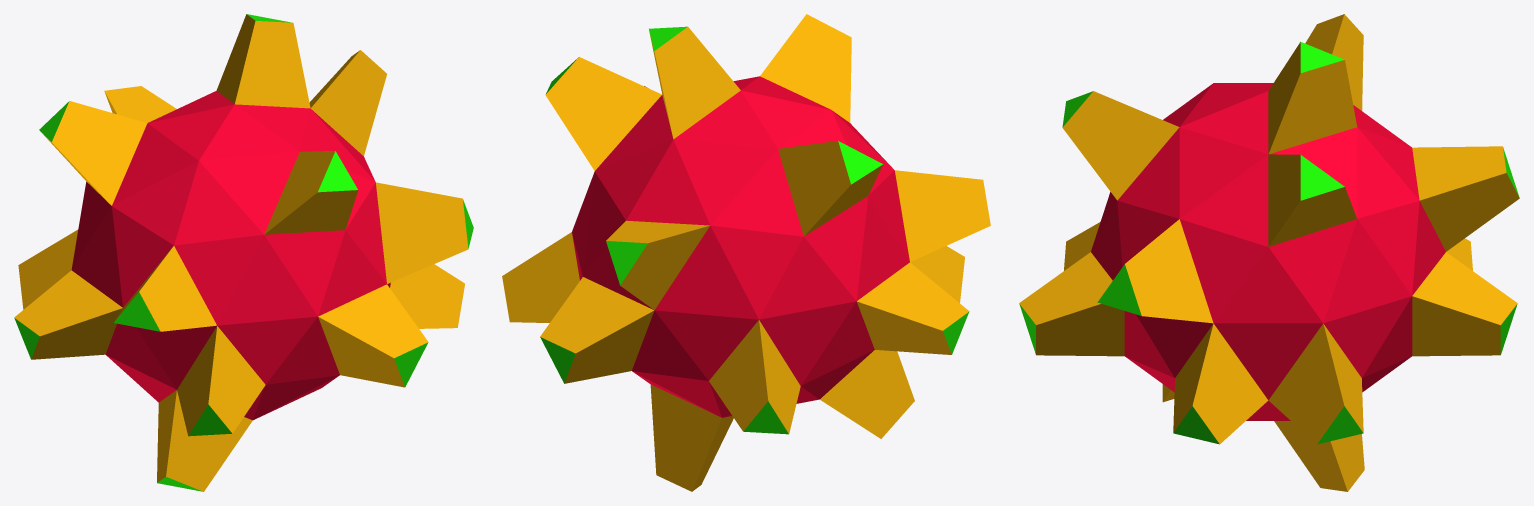
Rendered from mine.fbx.
The picture shows the model from 3 angles, left to right: view 1: azimuth 30°, elevation 25°; view 2: azimuth 150°, elevation 25°; view 3: azimuth 270°, elevation 25°; orthographic projection. The views are drawn at different scales.
Parts seen in each view (by area): view 1: Icosphere; view 2: Icosphere; view 3: Icosphere.
Boxes of the visible parts, left/top/right/bottom form: Icosphere: left=14, top=14, right=473, bottom=491; Icosphere: left=502, top=14, right=990, bottom=491; Icosphere: left=1019, top=14, right=1519, bottom=491.
Bounding box in the file's own units: 279 × 284 × 282.
